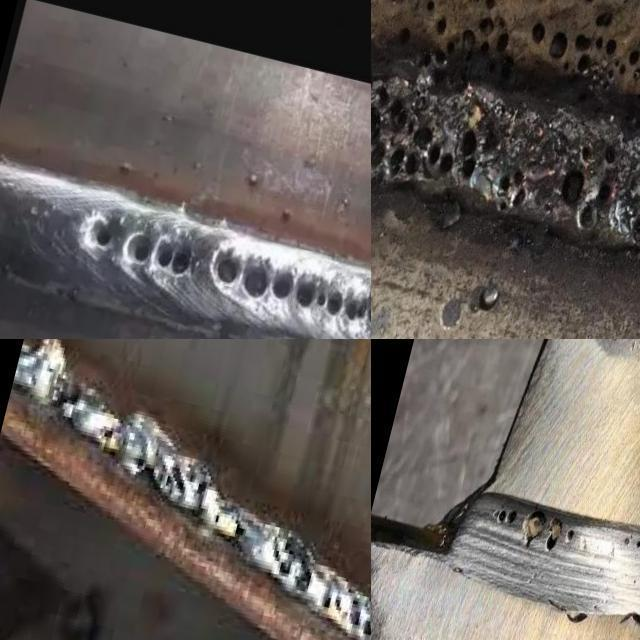defect: (212, 253, 371, 334), (371, 79, 484, 190), (392, 0, 518, 86), (526, 0, 640, 90), (550, 133, 625, 239), (119, 227, 195, 281), (152, 451, 212, 504), (519, 507, 579, 555), (269, 533, 315, 595), (483, 168, 531, 224), (319, 591, 371, 640), (45, 385, 82, 415), (492, 503, 518, 531), (125, 446, 149, 475), (91, 218, 114, 245), (229, 512, 247, 541), (100, 423, 117, 443), (633, 534, 640, 551), (213, 512, 221, 525), (623, 537, 631, 545)
